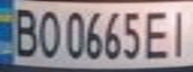0: (63, 7, 84, 60)
5: (121, 7, 148, 61)
6: (84, 7, 106, 61), (103, 7, 124, 61)
B: (6, 3, 42, 59)
E: (142, 7, 175, 60)
I: (166, 4, 193, 58)
O: (33, 4, 63, 60)
